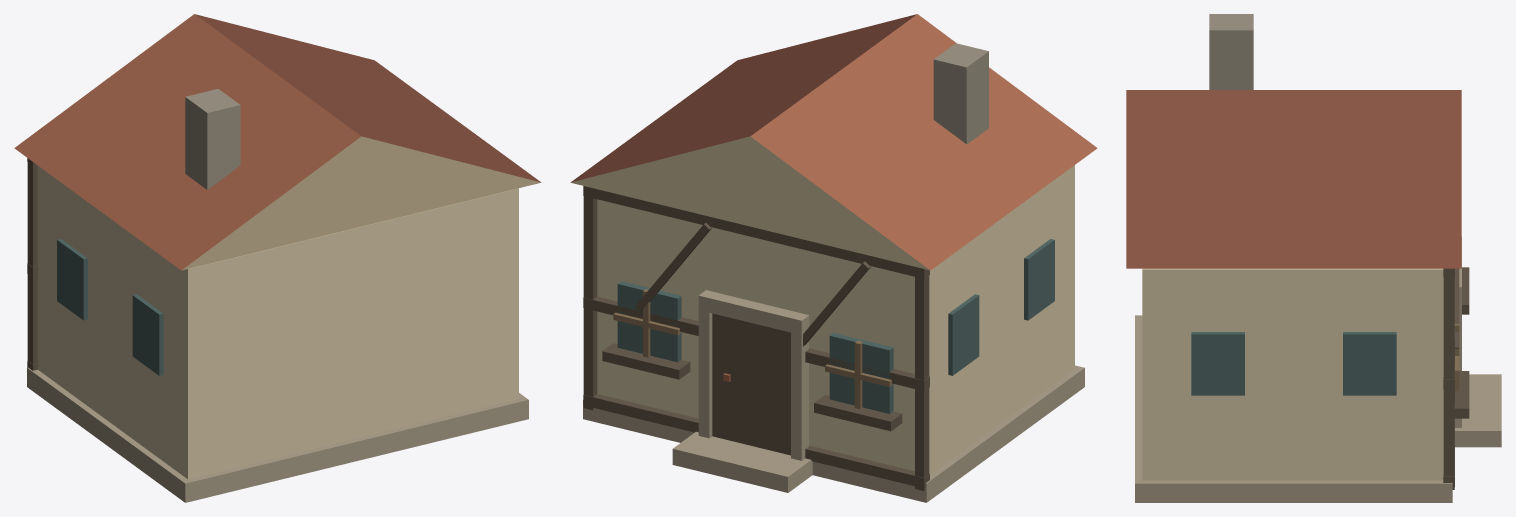
Rendered from Town_HouseA.fbx.
The picture shows the model from 3 angles, left to right: view 1: azimuth 30°, elevation 25°; view 2: azimuth 150°, elevation 25°; view 3: azimuth 270°, elevation 25°; orthographic projection.
Visible parts, largest first — view 1: Town_HouseA; view 2: Town_HouseA; view 3: Town_HouseA.
Part boxes in pixels (bbox=[...]): Town_HouseA: bbox=[14, 14, 541, 502]; Town_HouseA: bbox=[570, 14, 1097, 502]; Town_HouseA: bbox=[1126, 14, 1501, 502].
Size of the model in its own units: 4.68 by 4.32 by 4.21.
